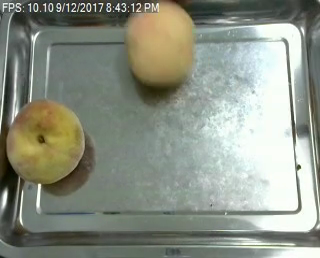Peach: (5, 98, 86, 184), (126, 0, 195, 89)
